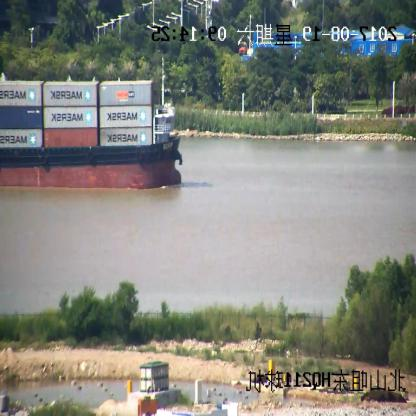Container Ship: (0, 74, 185, 189)
